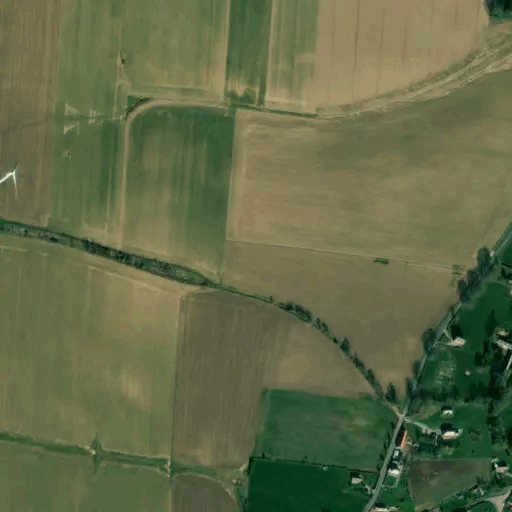wt: (1, 160, 32, 208)
